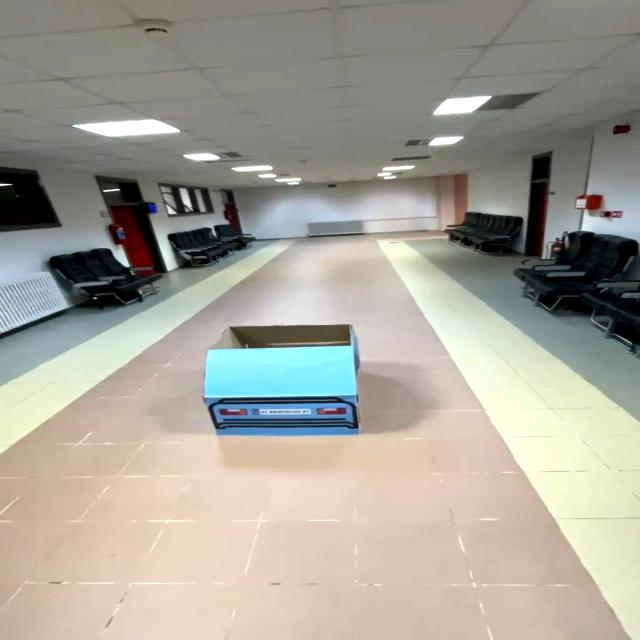blue_car: (182, 315, 393, 443)
